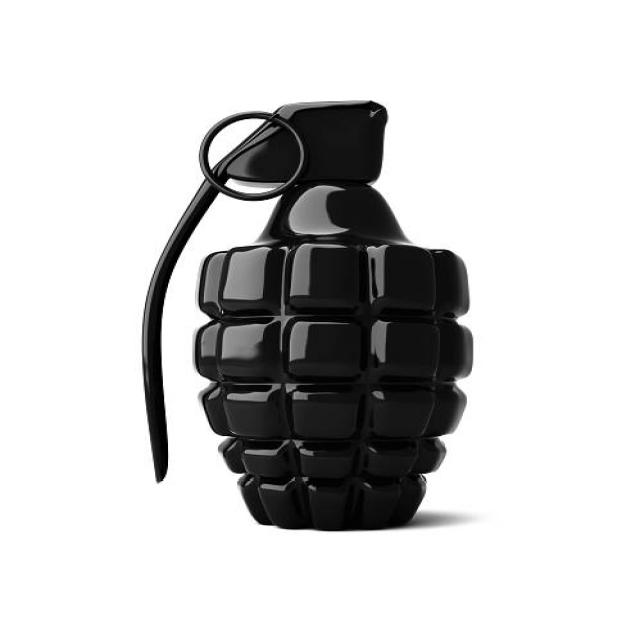grenade: (133, 92, 488, 539)
